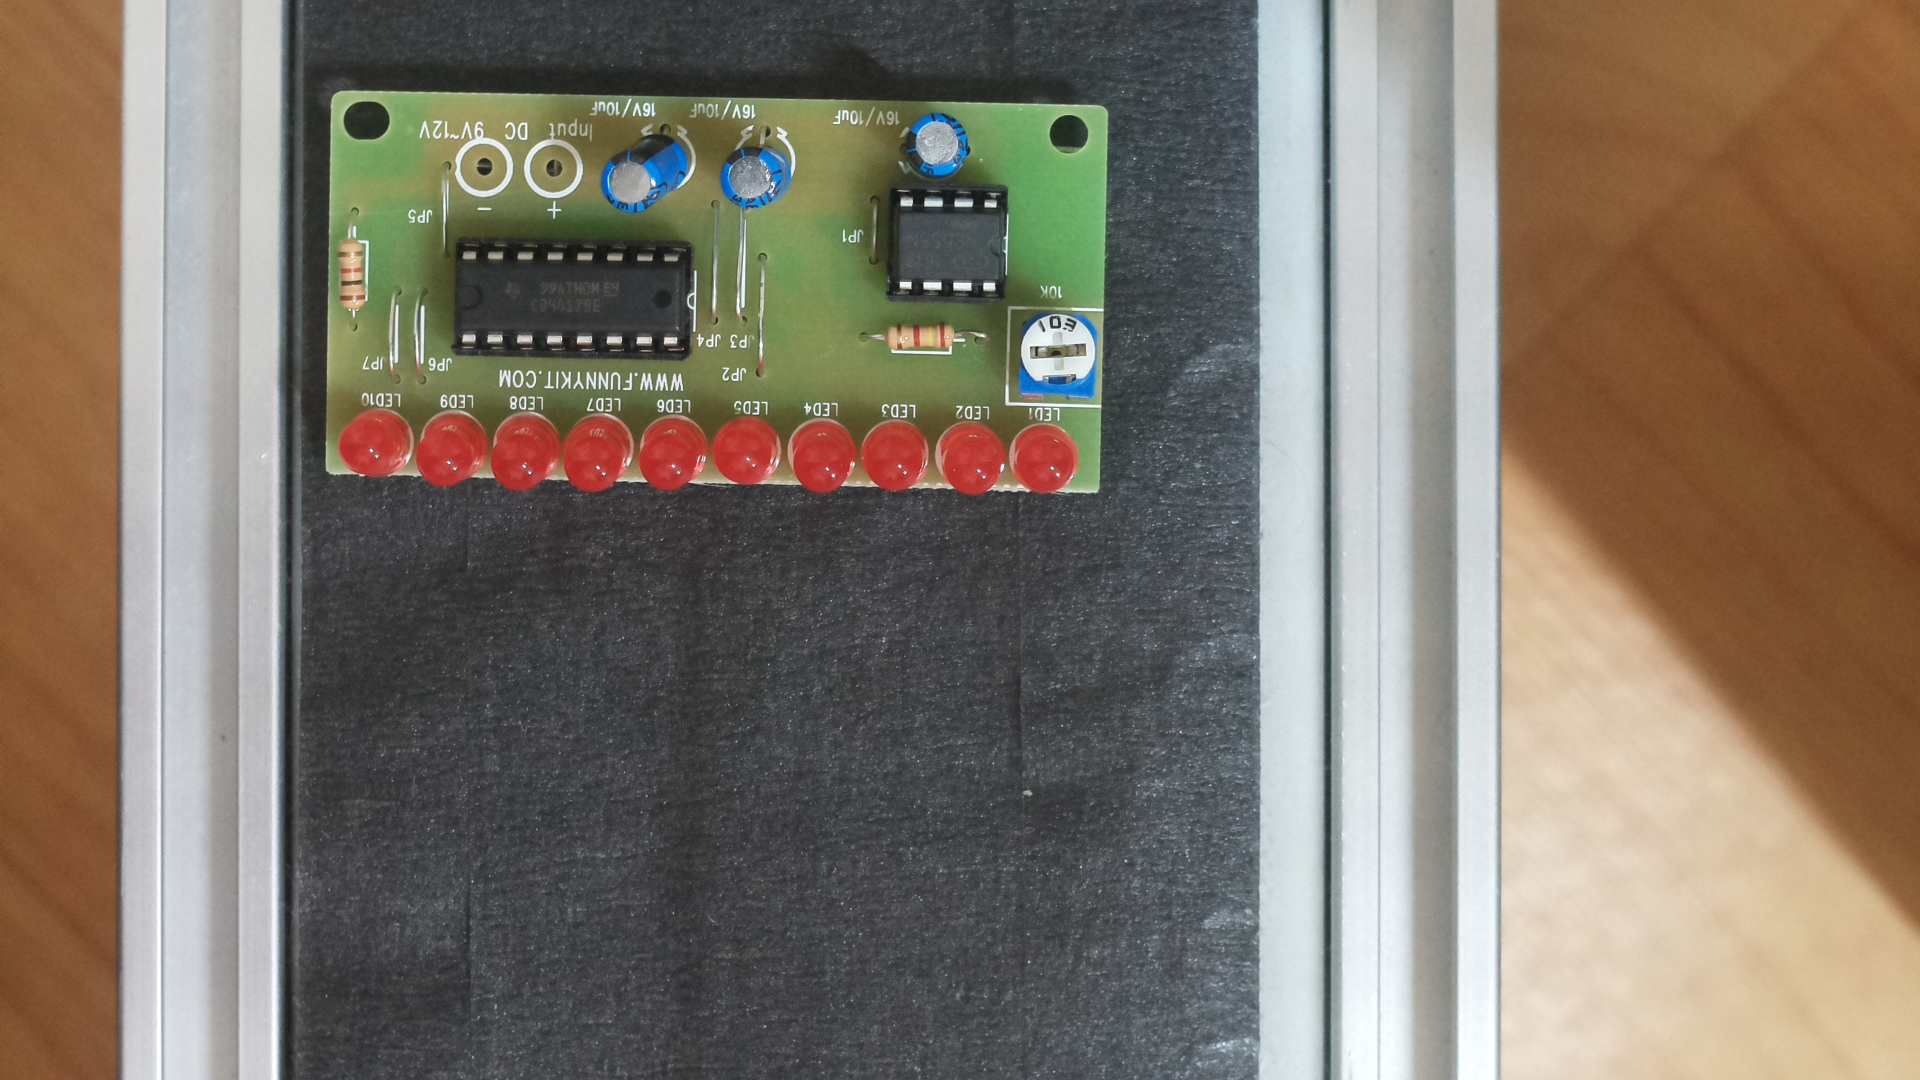B_Normal: (307, 74, 1121, 522)
